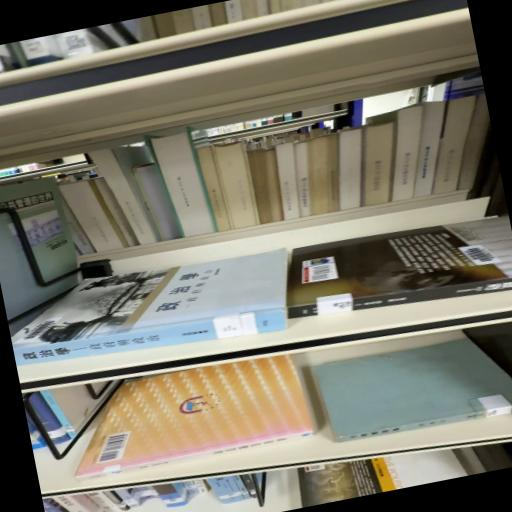flat: (12, 249, 289, 366), (77, 356, 316, 482), (288, 219, 512, 319), (315, 339, 512, 444)
